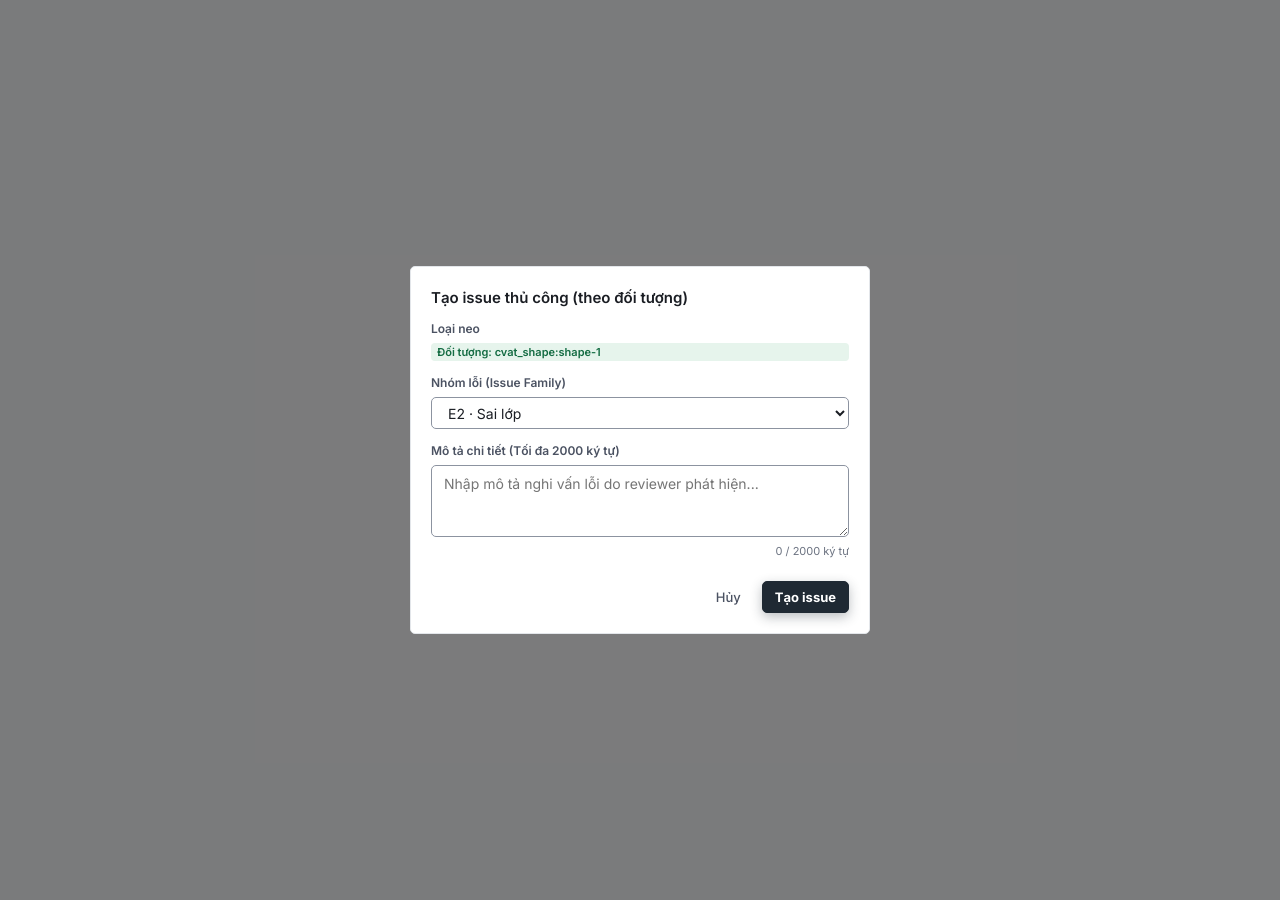
Test: T-035 PR130 Interface Integration Tests (T-037 Preparation) › ReviewManualIssueModal validations › handles 409 ISSUE_EXISTS without invalidating lease
The image size is (1280, 900).
Step 1. Click the button "Tạo issue" → [805, 597], box [762,581,849,613]
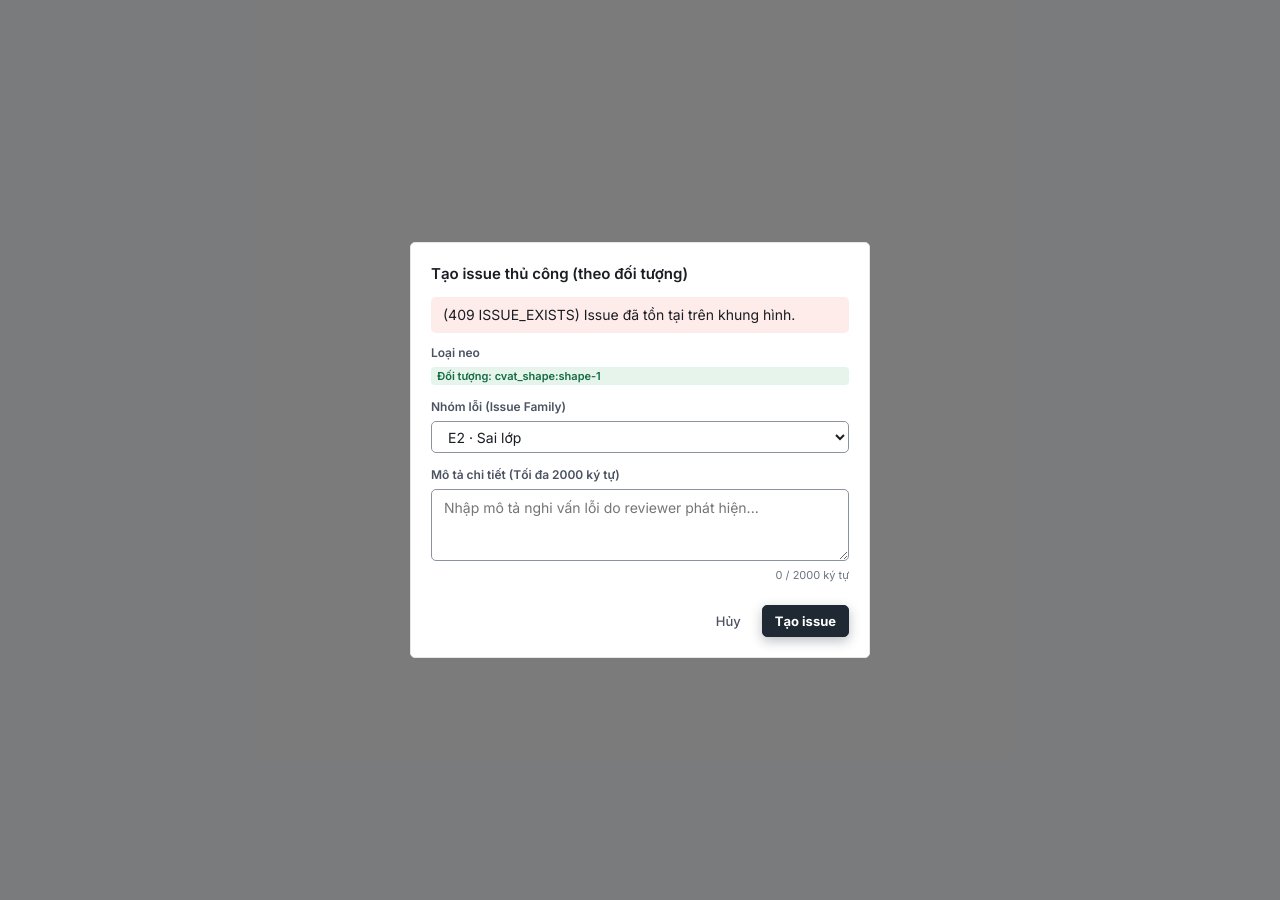
Result: the text "(409 ISSUE_EXISTS) Issue đã tồn tại trên khung hình." is shown at [443,305,837,325]
